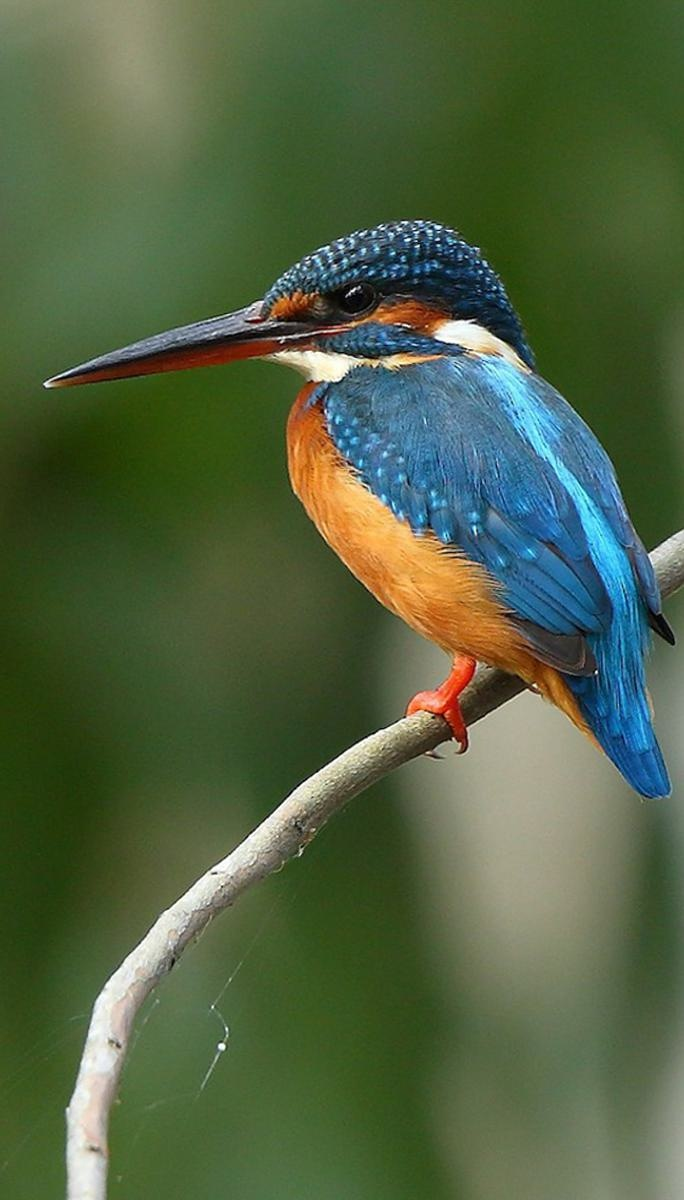kingfisher: (55, 220, 684, 803)
